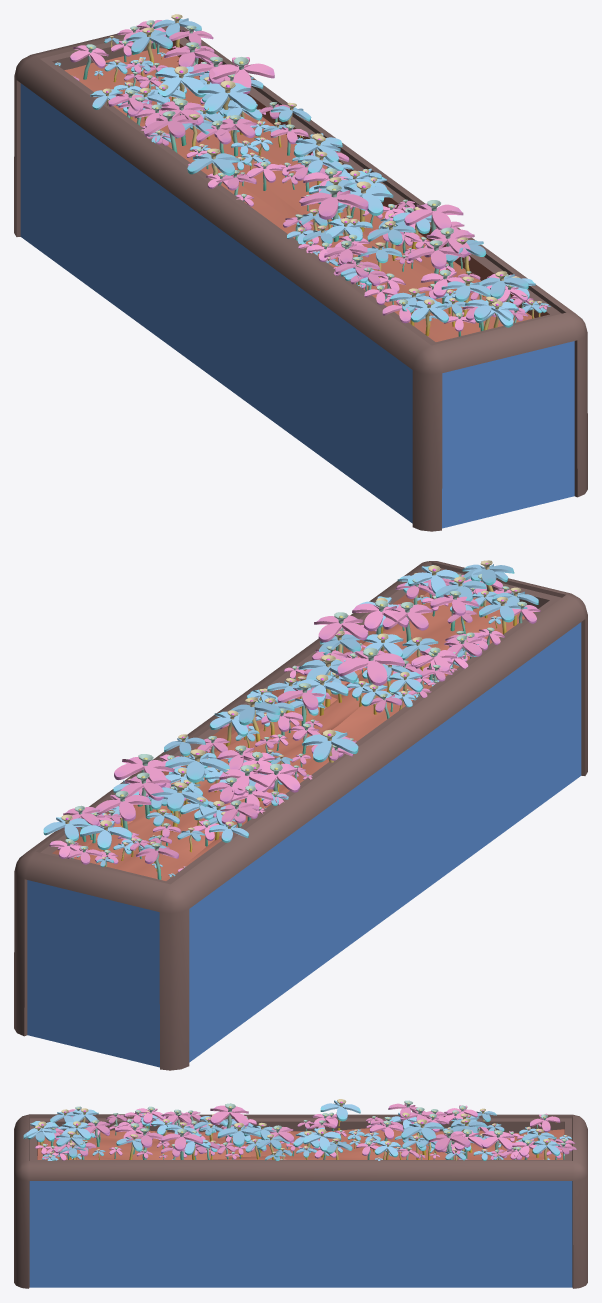
Rendered from gardenbox.fbx.
3 views of the same model, one above another, from view 1: azimuth 30°, elevation 25°; view 2: azimuth 150°, elevation 25°; view 3: azimuth 270°, elevation 25° (orthographic). The views are drawn at different scales.
Visible parts, largest first — view 1: Garden box, Garden box|FLOWERROW1.001|Dupli|105, Garden box|FLOWERROW1|Dupli|147, Garden box|FLOWERROW1|Dupli|44, Garden box|FLOWERROW1.001|Dupli|120, Garden box|FLOWERROW1|Dupli|63, Garden box|FLOWERROW1.001|Dupli|97, Garden box|FLOWERROW1.001|Dupli|175, Garden box|FLOWERROW1|Dupli|173, Garden box|FLOWERROW1.001|Dupli|87, Garden box|FLOWERROW1|Dupli|64, Garden box|FLOWERROW1|Dupli|117 (+5 smaller); view 2: Garden box, Garden box|FLOWERROW1|Dupli|147, Garden box|FLOWERROW1|Dupli|44, Garden box|FLOWERROW1.001|Dupli|105, Garden box|FLOWERROW1.001|Dupli|175, Garden box|FLOWERROW1|Dupli|63, Garden box|FLOWERROW1|Dupli|173, Garden box|FLOWERROW1|Dupli|117, Garden box|FLOWERROW1|Dupli|68, Garden box|FLOWERROW1|Dupli|64, Garden box|FLOWERROW1.001|Dupli|97, Garden box|FLOWERROW1.001|Dupli|120 (+7 smaller); view 3: Garden box, Garden box|FLOWERROW1|Dupli|147, Garden box|FLOWERROW1.001|Dupli|105, Garden box|FLOWERROW1|Dupli|44, Garden box|FLOWERROW1.001|Dupli|97, Garden box|FLOWERROW1|Dupli|63, Garden box|FLOWERROW1|Dupli|68, Garden box|FLOWERROW1.001|Dupli|175, Garden box|FLOWERROW1.001|Dupli|96, Garden box|FLOWERROW1.001|Dupli|40, Garden box|FLOWERROW1|Dupli|64, Garden box|FLOWERROW1.001|Dupli|21 (+17 smaller).
Part boxes in pixels (x1,y1,x2,y2): Garden box: [14, 26, 587, 531]; Garden box|FLOWERROW1.001|Dupli|105: [197, 80, 256, 117]; Garden box|FLOWERROW1|Dupli|147: [301, 185, 368, 241]; Garden box|FLOWERROW1|Dupli|44: [209, 57, 274, 93]; Garden box|FLOWERROW1.001|Dupli|120: [155, 66, 205, 98]; Garden box|FLOWERROW1|Dupli|63: [404, 200, 463, 240]; Garden box|FLOWERROW1.001|Dupli|97: [338, 181, 393, 231]; Garden box|FLOWERROW1.001|Dupli|175: [187, 148, 240, 179]; Garden box|FLOWERROW1|Dupli|173: [143, 111, 198, 152]; Garden box|FLOWERROW1.001|Dupli|87: [126, 27, 172, 65]; Garden box|FLOWERROW1|Dupli|64: [424, 227, 474, 270]; Garden box|FLOWERROW1|Dupli|117: [408, 240, 464, 283]; Garden box: [14, 561, 587, 1070]; Garden box|FLOWERROW1|Dupli|147: [337, 647, 405, 685]; Garden box|FLOWERROW1|Dupli|44: [114, 754, 174, 806]; Garden box|FLOWERROW1.001|Dupli|105: [165, 749, 229, 787]; Garden box|FLOWERROW1.001|Dupli|175: [302, 729, 358, 762]; Garden box|FLOWERROW1|Dupli|63: [314, 612, 367, 653]; Garden box|FLOWERROW1|Dupli|173: [253, 763, 300, 792]; Garden box|FLOWERROW1|Dupli|117: [382, 602, 432, 646]; Garden box|FLOWERROW1|Dupli|68: [95, 791, 151, 829]; Garden box|FLOWERROW1|Dupli|64: [352, 600, 408, 634]; Garden box|FLOWERROW1.001|Dupli|97: [298, 655, 357, 707]; Garden box|FLOWERROW1.001|Dupli|120: [149, 782, 208, 831]; Garden box: [14, 1114, 587, 1288]; Garden box|FLOWERROW1|Dupli|147: [210, 1103, 248, 1140]; Garden box|FLOWERROW1.001|Dupli|105: [401, 1119, 444, 1155]; Garden box|FLOWERROW1|Dupli|44: [428, 1129, 470, 1159]; Garden box|FLOWERROW1.001|Dupli|97: [217, 1122, 261, 1156]; Garden box|FLOWERROW1|Dupli|63: [161, 1129, 202, 1159]; Garden box|FLOWERROW1|Dupli|68: [481, 1130, 514, 1159]; Garden box|FLOWERROW1.001|Dupli|175: [320, 1099, 360, 1130]; Garden box|FLOWERROW1.001|Dupli|96: [303, 1127, 341, 1157]; Garden box|FLOWERROW1.001|Dupli|40: [26, 1121, 58, 1143]; Garden box|FLOWERROW1|Dupli|64: [125, 1128, 163, 1159]; Garden box|FLOWERROW1.001|Dupli|21: [532, 1139, 560, 1159].
Size of the model in its own units: 2.08 by 2.49 by 8.73.
6 materials, 3 textured.
